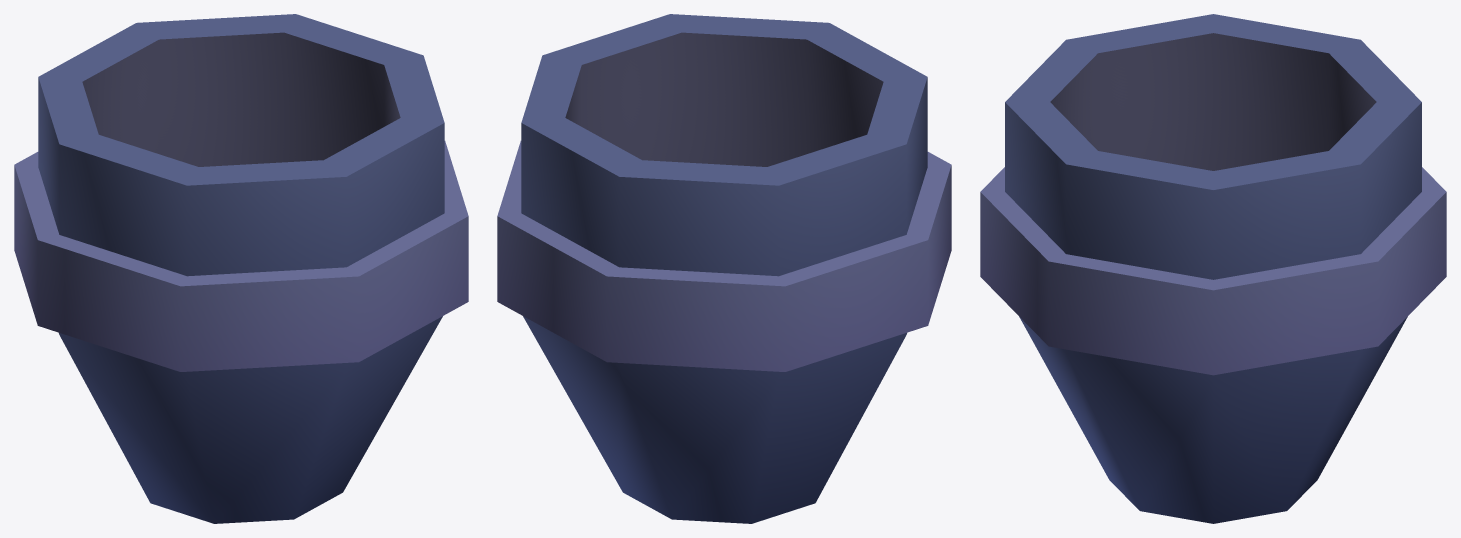
File: hopper-round.glb
3 renders of one model, left to right at view 1: azimuth 30°, elevation 25°; view 2: azimuth 150°, elevation 25°; view 3: azimuth 270°, elevation 25°, orthographic.
Visible parts, largest first — view 1: hopper-round; view 2: hopper-round; view 3: hopper-round.
Part boxes in pixels (left/top/right/bottom): hopper-round: left=14, top=14, right=468, bottom=523; hopper-round: left=497, top=14, right=951, bottom=523; hopper-round: left=980, top=14, right=1446, bottom=523.
Bounding box in the file's own units: 1.12 × 1 × 1.12.
